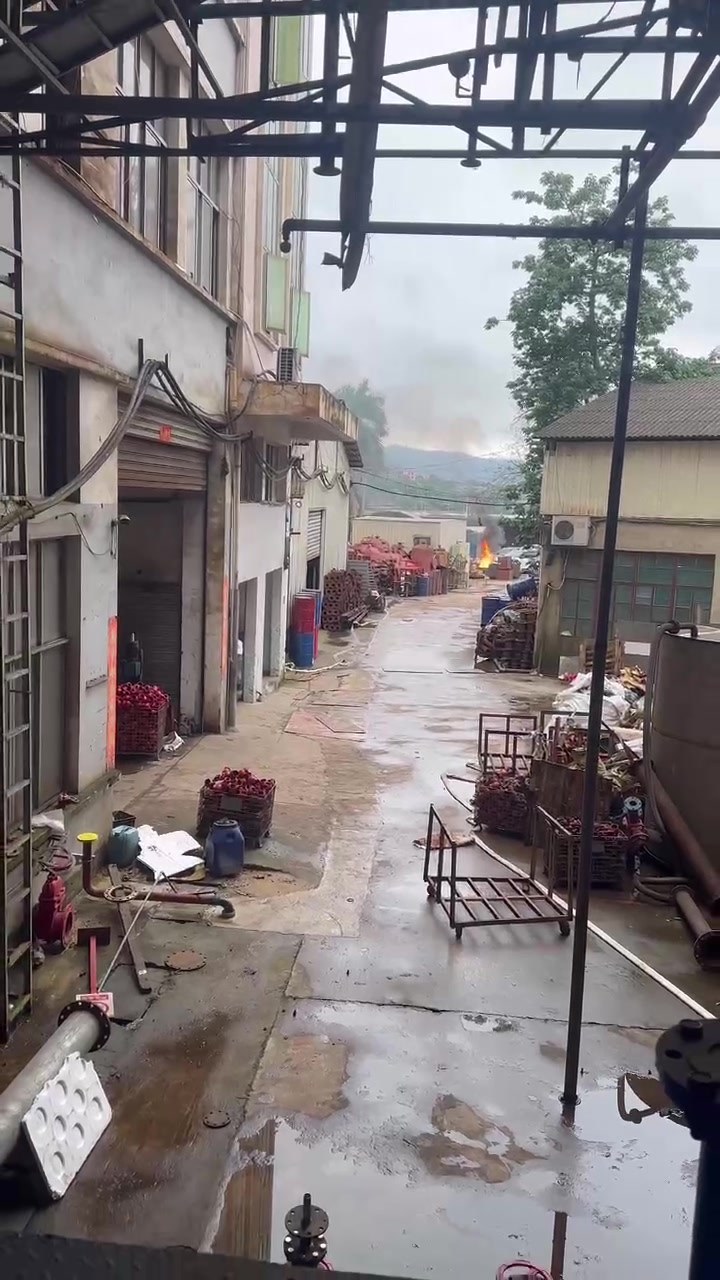fire: (478, 540, 491, 567)
